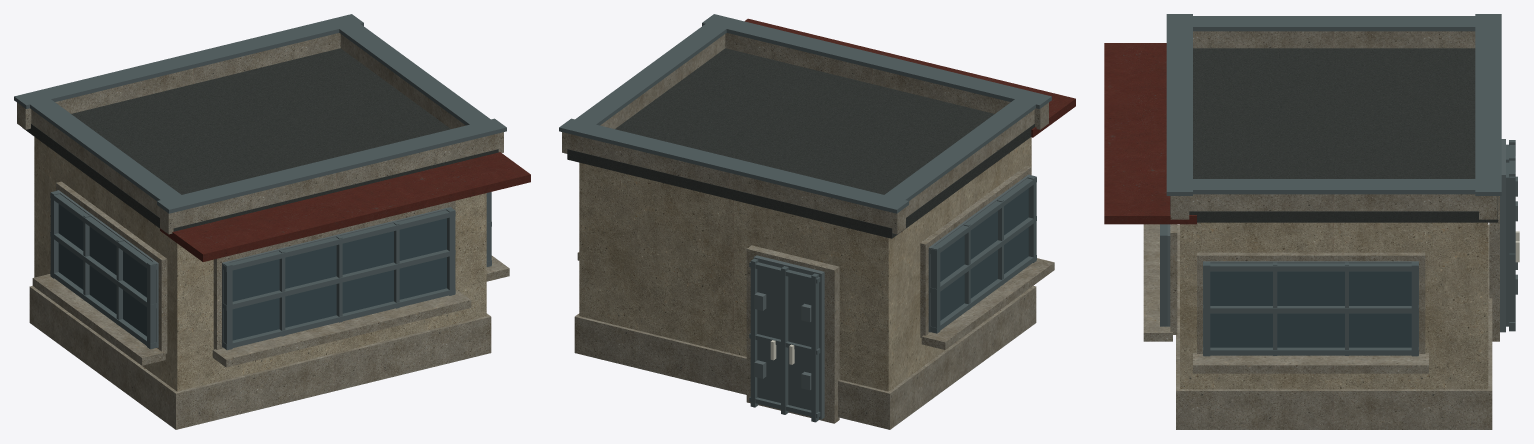
File: atp_gatehouse.glb
The picture shows the model from 3 angles, left to right: view 1: azimuth 30°, elevation 25°; view 2: azimuth 150°, elevation 25°; view 3: azimuth 270°, elevation 25°; orthographic projection. The views are drawn at different scales.
Visible parts, largest first — view 1: atp_gatehouse; view 2: atp_gatehouse; view 3: atp_gatehouse.
Part boxes in pixels (left/top/right/bottom): atp_gatehouse: left=14, top=14, right=530, bottom=429; atp_gatehouse: left=559, top=14, right=1075, bottom=429; atp_gatehouse: left=1104, top=14, right=1519, bottom=429.
Size of the model in its own units: 5.94 by 3.55 by 5.38.
8 materials, 4 textured.
